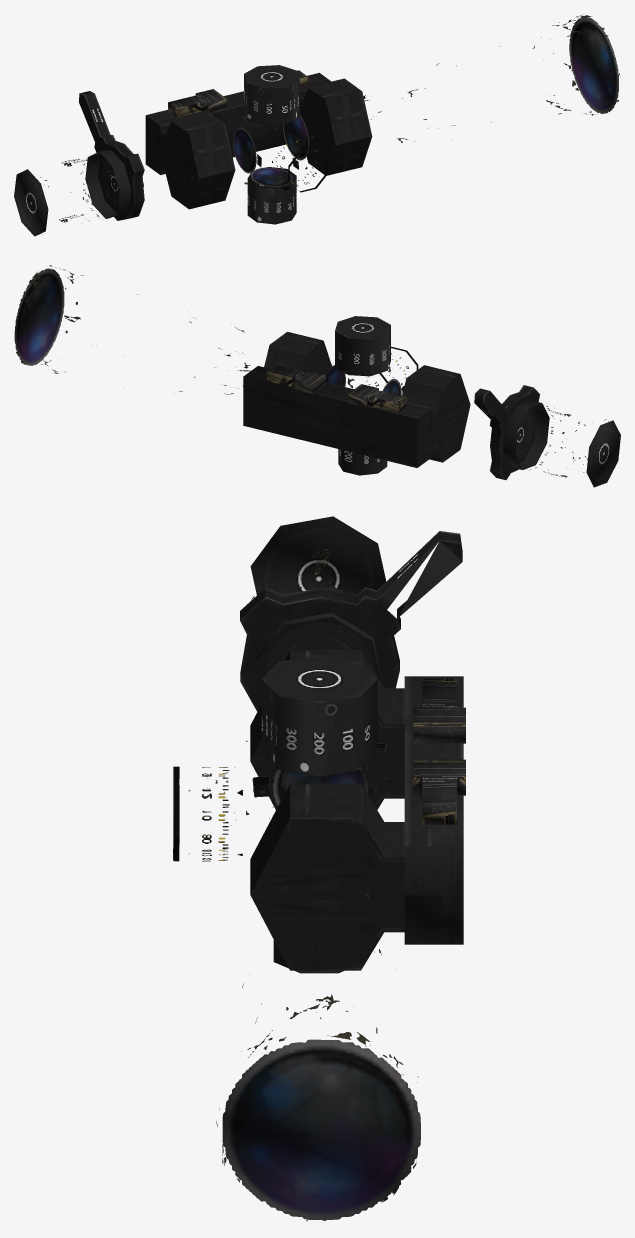
Rendered from t6_wpn_sniper_ballista_scope_world_LOD0.obj.
3 renders of one model, top to bottom at view 1: azimuth 30°, elevation 25°; view 2: azimuth 150°, elevation 25°; view 3: azimuth 270°, elevation 25°, orthographic. The views are drawn at different scales.
Parts seen in each view (by area): view 1: mtl_t6_wpn_sniper_ballista_scope_camo1, mtl_t6_wpn_sniper_ballista_scope_camo2, mtl_t6_wpn_sniper_ballista_camo3; view 2: mtl_t6_wpn_sniper_ballista_scope_camo1, mtl_t6_wpn_sniper_ballista_camo3, mtl_t6_wpn_sniper_ballista_scope_camo2; view 3: mtl_t6_wpn_sniper_ballista_scope_camo1, mtl_t6_wpn_sniper_ballista_camo3, mtl_t6_wpn_sniper_ballista_scope_camo2.
Boxes of the visible parts, bbox=[...] form: mtl_t6_wpn_sniper_ballista_scope_camo1: bbox=[14, 14, 620, 236]; mtl_t6_wpn_sniper_ballista_scope_camo2: bbox=[79, 91, 372, 220]; mtl_t6_wpn_sniper_ballista_camo3: bbox=[168, 70, 307, 117]; mtl_t6_wpn_sniper_ballista_scope_camo1: bbox=[14, 265, 620, 487]; mtl_t6_wpn_sniper_ballista_camo3: bbox=[267, 365, 406, 412]; mtl_t6_wpn_sniper_ballista_scope_camo2: bbox=[303, 363, 539, 479]; mtl_t6_wpn_sniper_ballista_scope_camo1: bbox=[173, 516, 463, 1221]; mtl_t6_wpn_sniper_ballista_camo3: bbox=[413, 678, 465, 824]; mtl_t6_wpn_sniper_ballista_scope_camo2: bbox=[250, 650, 289, 893].
Size of the model in its own units: 36.53 by 8.5 by 8.34.
